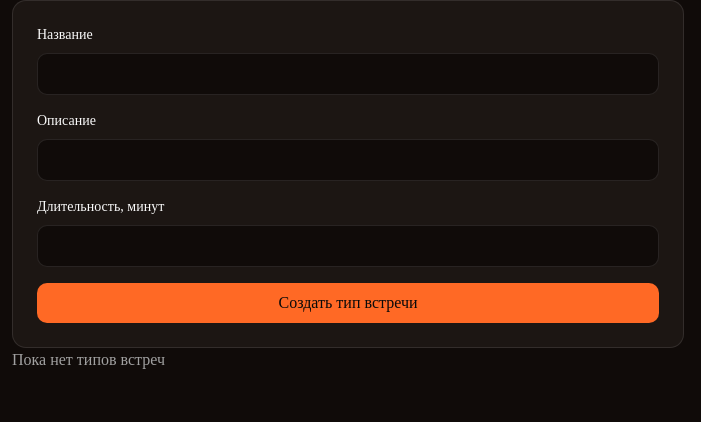
it: admin page creates event types › shows a server rejection message on 400
The image size is (701, 422).
Step 1. Type "Созвон" into the field labelled "Название" → (348, 74), box [37,53,659,95]
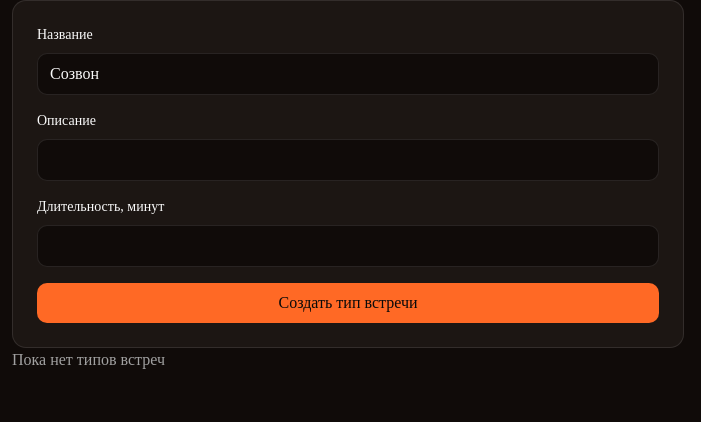
Step 2. Type "Короткий звонок" into the field labelled "Описание" → (348, 160), box [37,139,659,181]
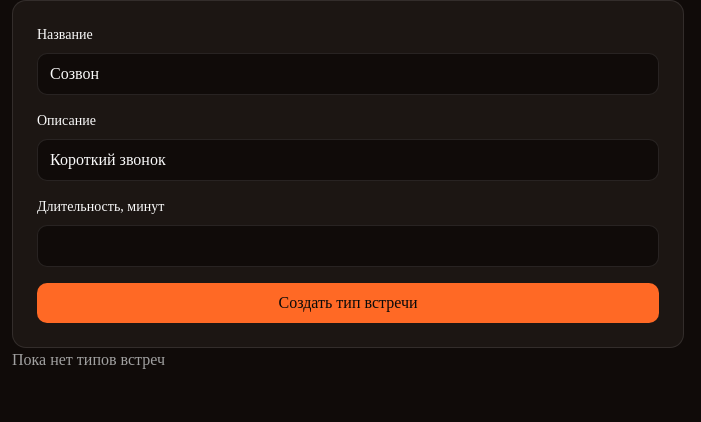
Step 3. Type "15" into the number field labelled "Длительность, минут" → (348, 246), box [37,225,659,267]
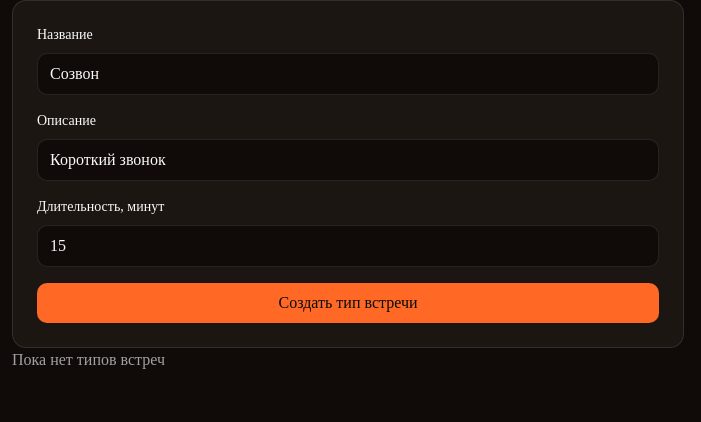
Step 4. Click the button "Создать тип встречи" → (348, 303), box [37,283,659,323]
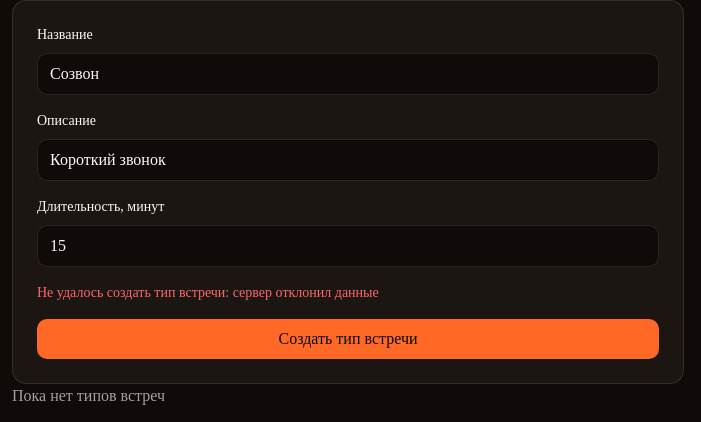
Result: the message shows "Не удалось создать тип встречи" at [37,285,379,300]
